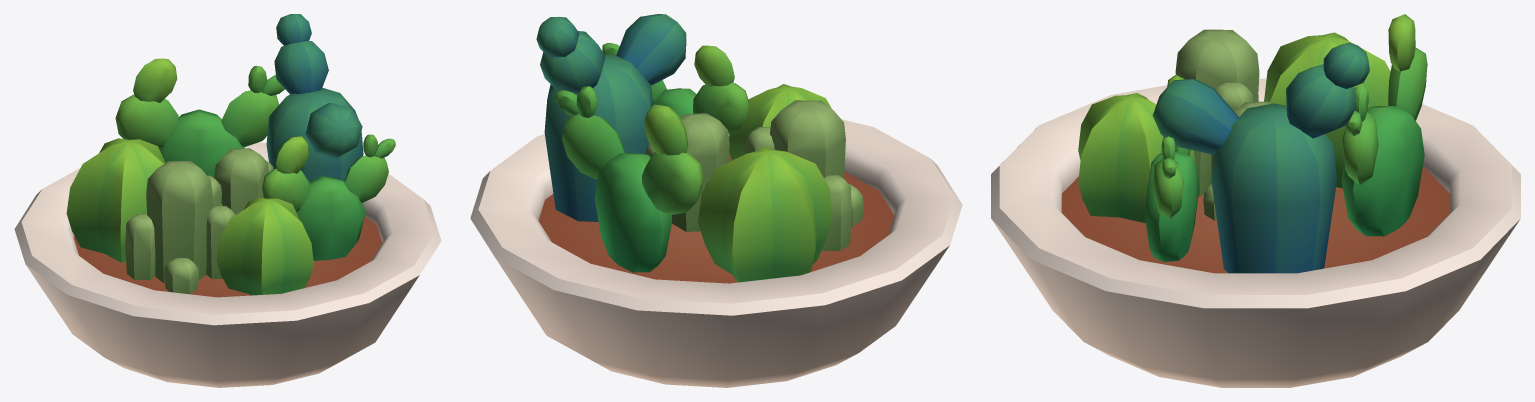
File: house_plants_plants_cactus_pot.glb
3 renders of one model, left to right at view 1: azimuth 30°, elevation 25°; view 2: azimuth 150°, elevation 25°; view 3: azimuth 270°, elevation 25°, orthographic. The views are drawn at different scales.
Parts seen in each view (by area): view 1: cacti_plant_pot_large; view 2: cacti_plant_pot_large; view 3: cacti_plant_pot_large.
Boxes of the visible parts, left/top/right/bottom form: cacti_plant_pot_large: left=14, top=14, right=441, bottom=387; cacti_plant_pot_large: left=470, top=14, right=962, bottom=387; cacti_plant_pot_large: left=991, top=14, right=1520, bottom=387.
Size of the model in its own units: 1.49 by 1.04 by 1.49.
Materials: 1 (1 with a texture image).
